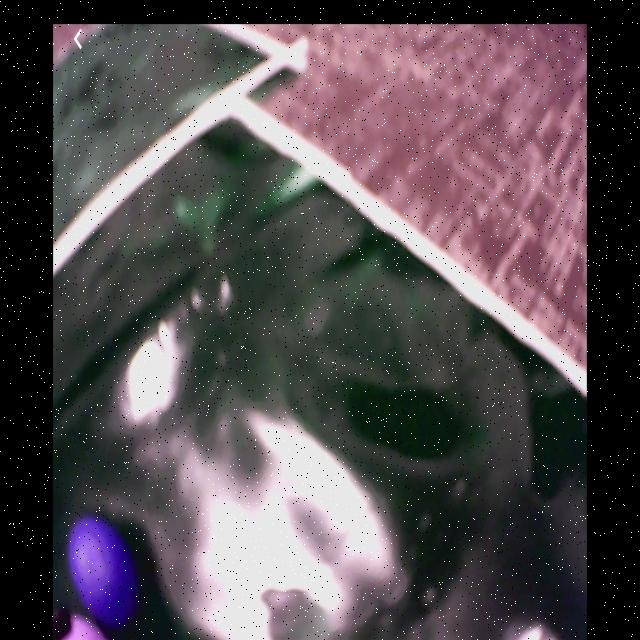ball: (72, 517, 137, 618), (54, 599, 104, 640)
